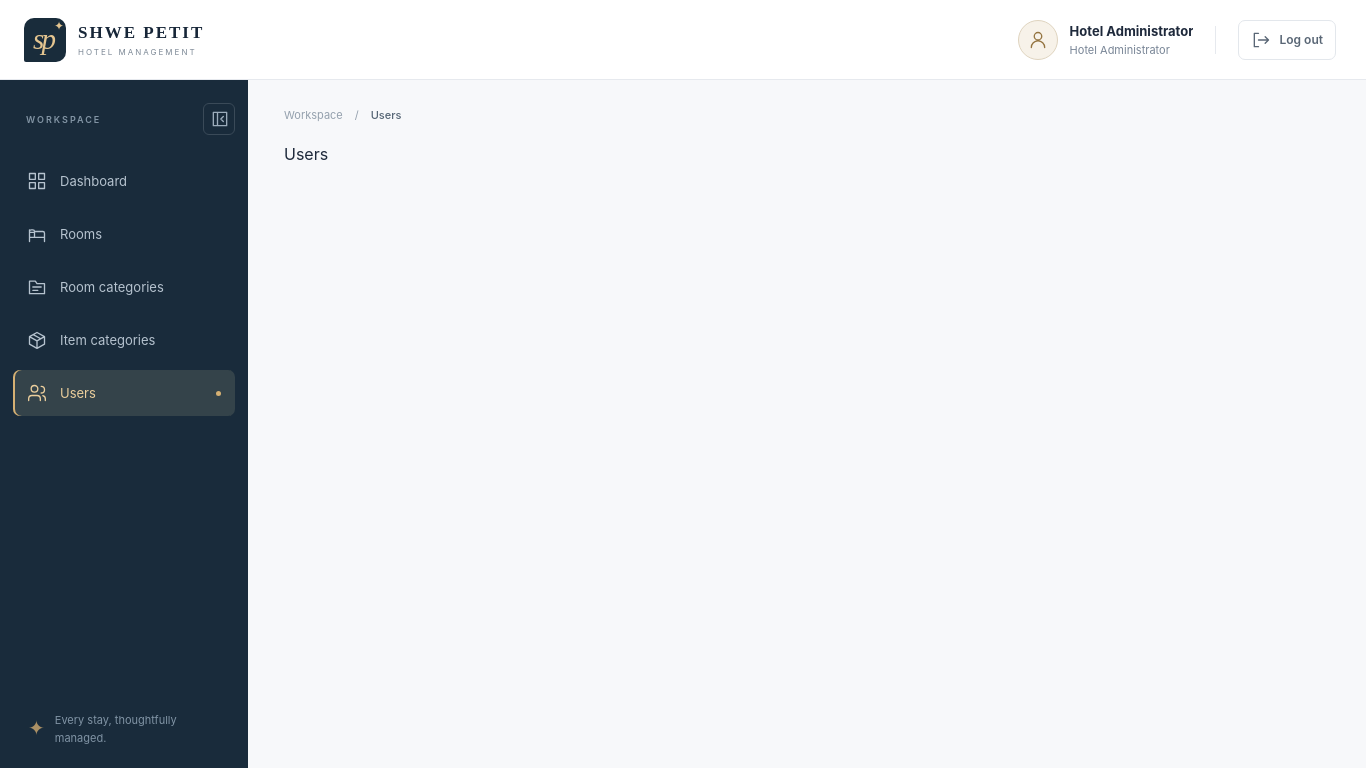
Test: admin navigation › keeps the session and offers retry if logout fails
Click the button with class "logout-button" at (1287, 40), box left=1238, top=20, right=1336, bottom=60
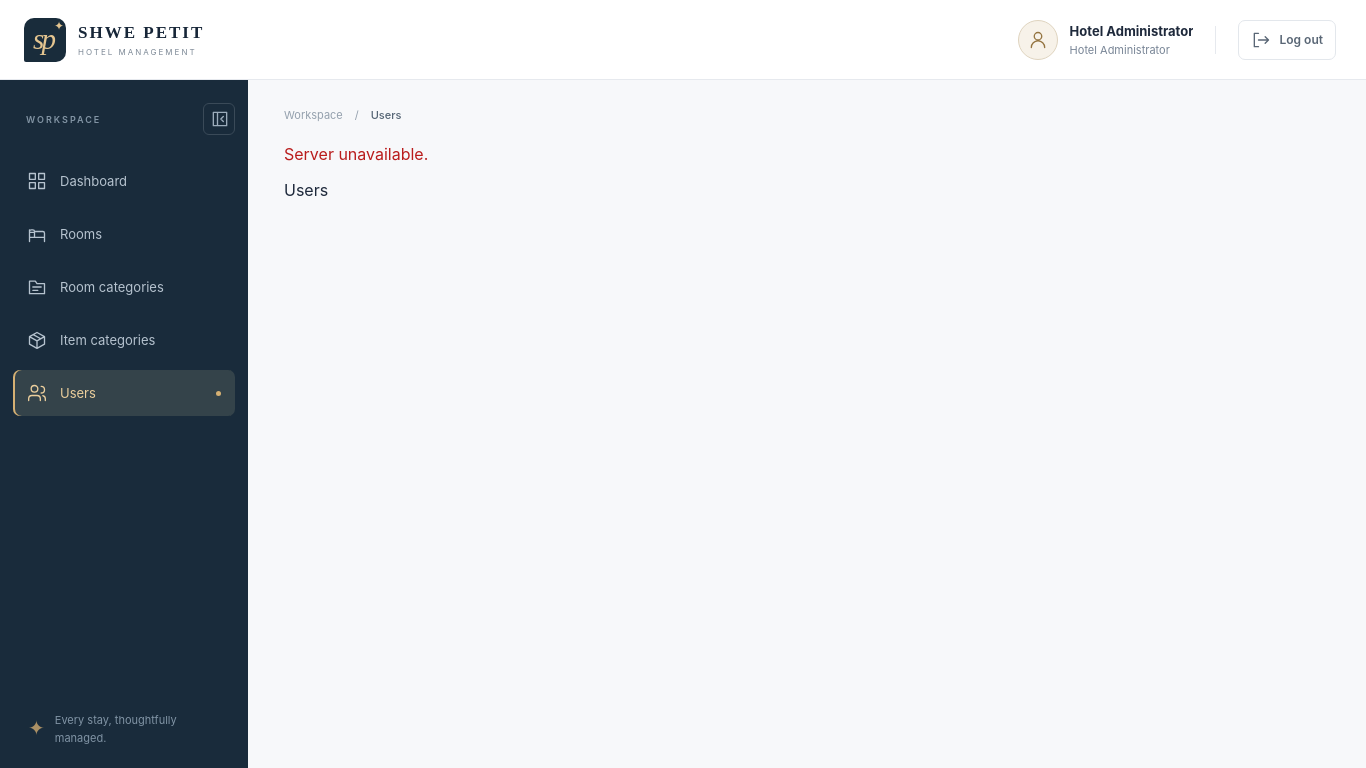
Now the message "Server unavailable." is shown, box left=284, top=144, right=428, bottom=164
